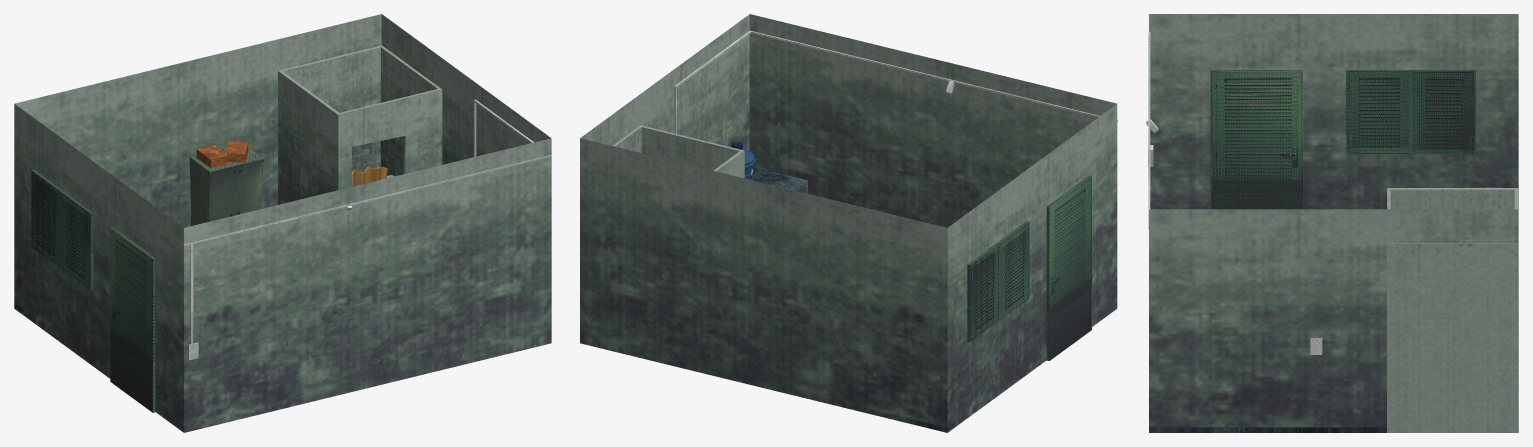
File: Mainroom.fbx
3 renders of one model, left to right at view 1: azimuth 30°, elevation 25°; view 2: azimuth 150°, elevation 25°; view 3: azimuth 270°, elevation 25°, orthographic. The views are drawn at different scales.
Visible parts, largest first — view 1: wall, wall (backup no door), wall wc, Cua chinh, tu, Cuaso 1, Cuaso 2, daydien, hop giay 1; view 2: wall, wall (backup no door), Cua chinh, wall wc, Cuaso 2, Cuaso 1, daydien, bep; view 3: wall (backup no door), wall, wall wc, Cua chinh, Cuaso 1, Cuaso 2, floor, daydien.
Part boxes in pixels (x1,y1,x2,y2): wall: (14, 14, 551, 432); wall (backup no door): (14, 27, 526, 432); wall wc: (278, 45, 442, 204); Cua chinh: (110, 227, 155, 412); tu: (189, 148, 263, 225); Cuaso 1: (61, 191, 93, 290); Cuaso 2: (31, 169, 63, 268); daydien: (183, 99, 551, 344); hop giay 1: (196, 145, 228, 167); wall: (580, 14, 1117, 432); wall (backup no door): (580, 14, 1114, 430); Cua chinh: (1046, 175, 1091, 360); wall wc: (612, 125, 744, 178); Cuaso 2: (967, 243, 999, 341); Cuaso 1: (997, 221, 1029, 319); daydien: (674, 30, 1117, 133); bep: (752, 167, 807, 193); wall (backup no door): (1149, 14, 1518, 427); wall: (1149, 14, 1518, 427); wall wc: (1387, 188, 1518, 432); Cua chinh: (1210, 70, 1302, 209); Cuaso 1: (1346, 70, 1410, 154); Cuaso 2: (1411, 70, 1475, 154); floor: (1149, 427, 1518, 432); daydien: (1148, 31, 1150, 228).
Size of the model in its own units: 757 by 401 by 604.
